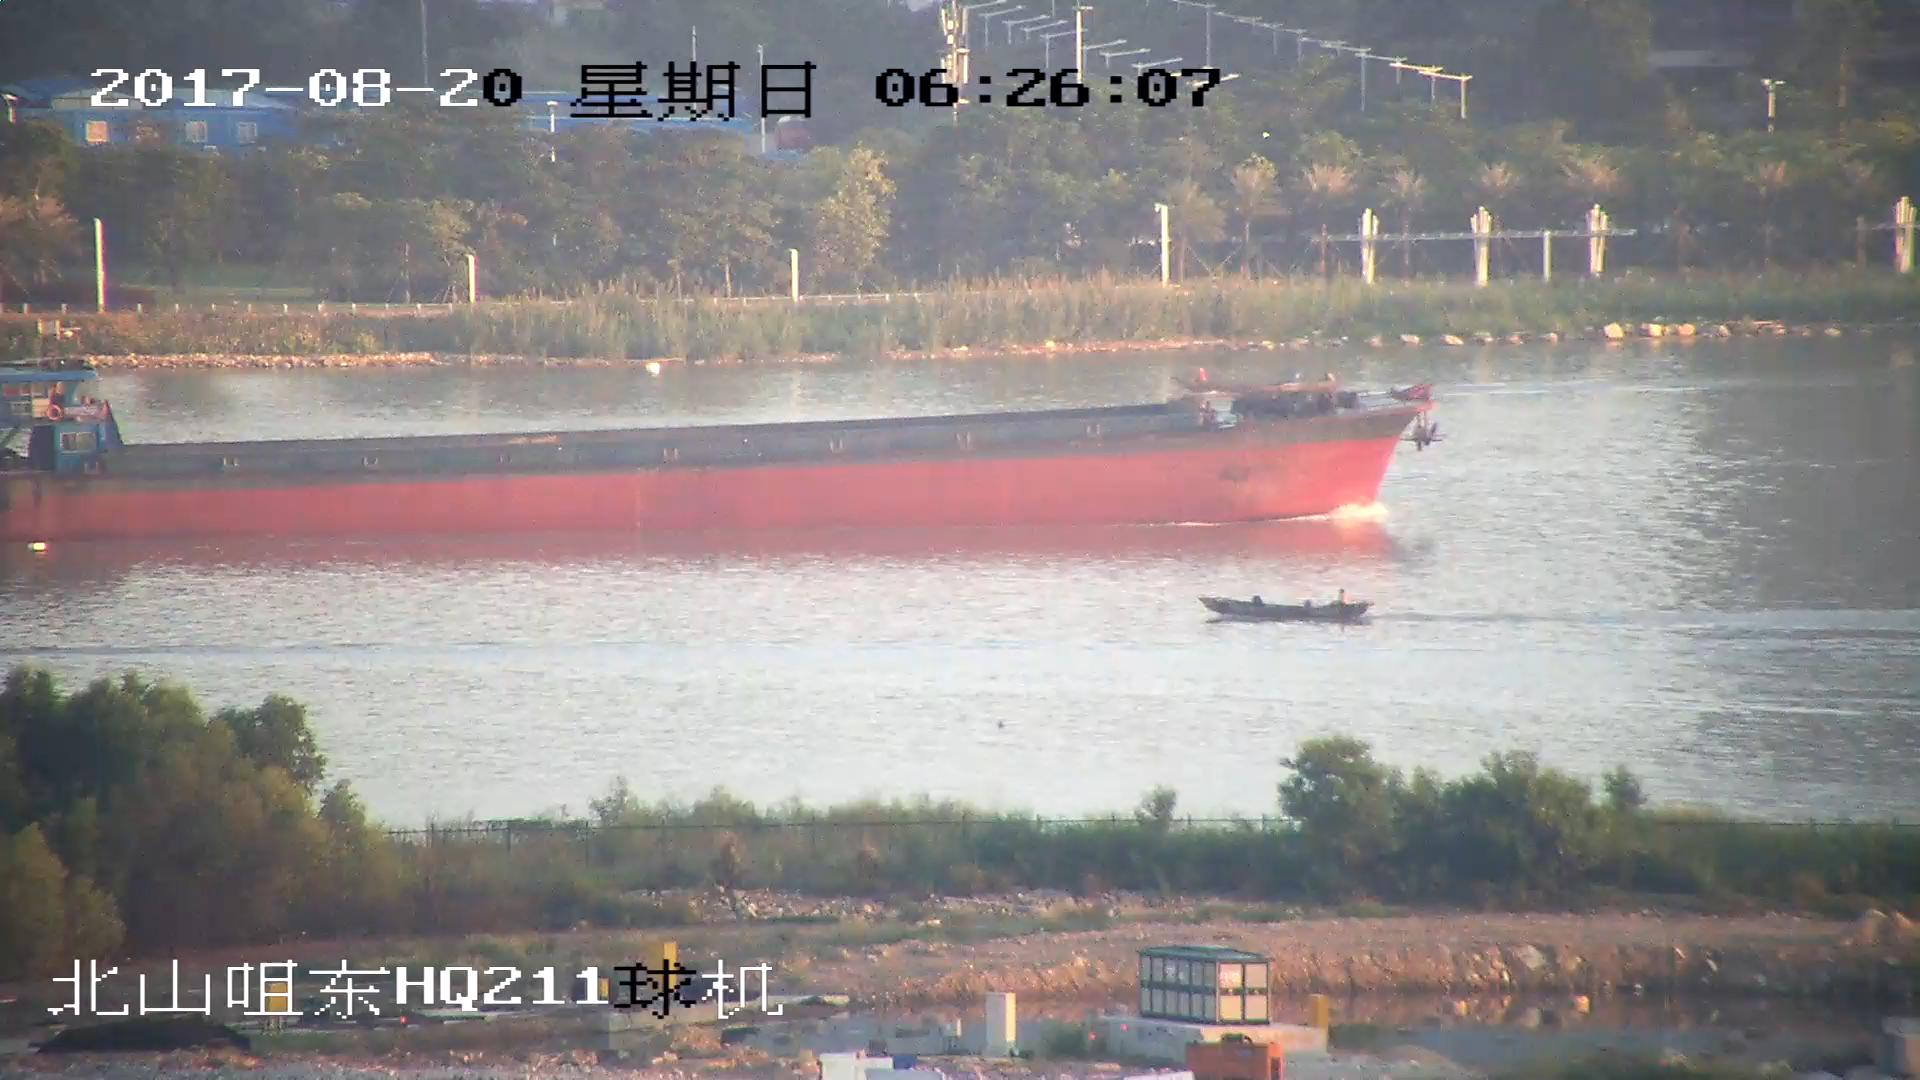bulk cargo carrier: (1, 340, 1430, 535)
fishing boat: (1197, 588, 1373, 628)
